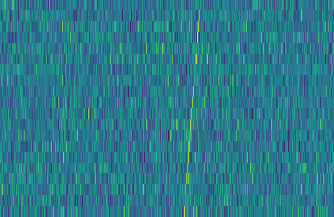signal: (179, 0, 205, 217)
